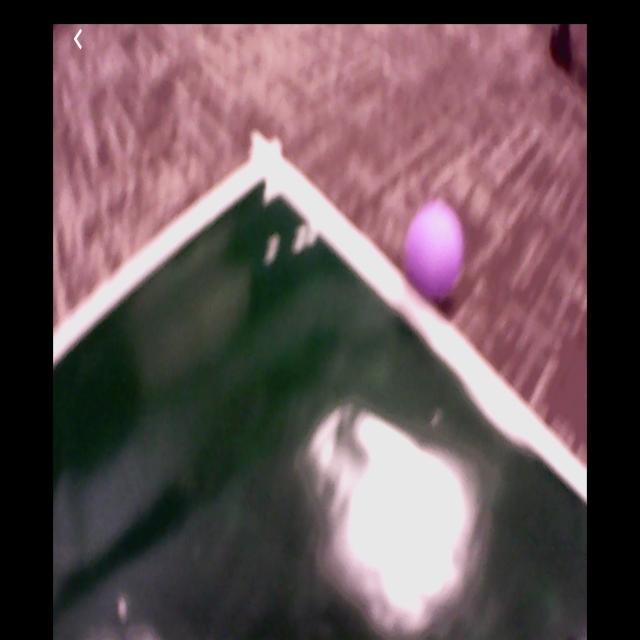ball: (406, 201, 464, 298)
